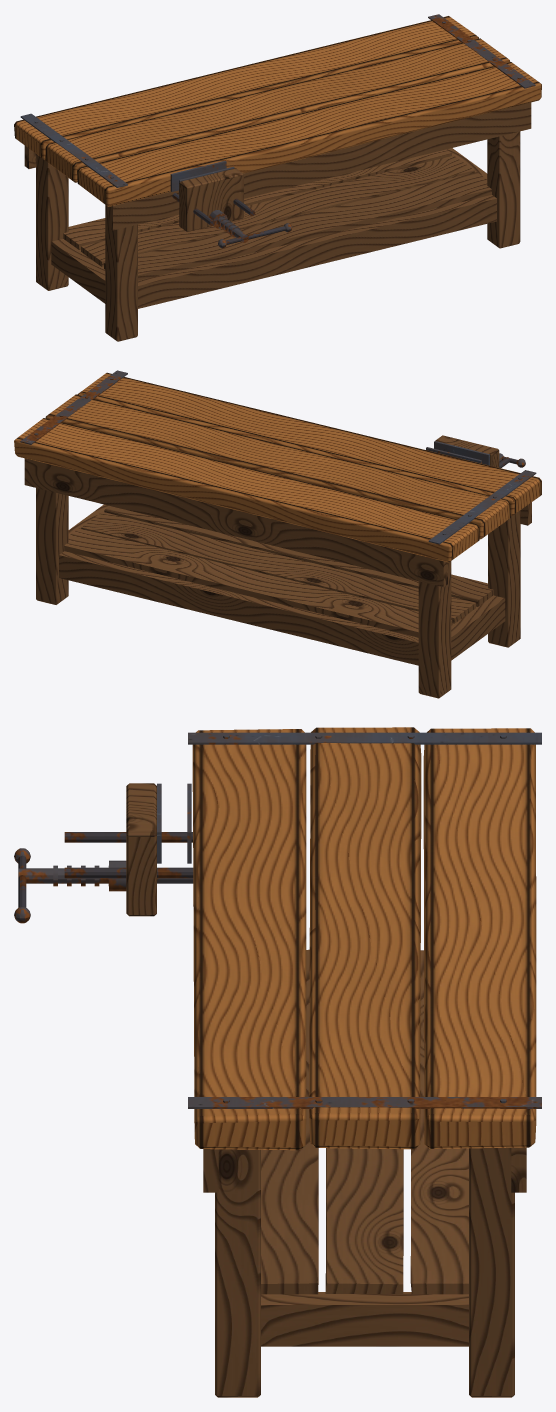
Rendered from Workbench.glb.
3 renders of one model, top to bottom at view 1: azimuth 30°, elevation 25°; view 2: azimuth 150°, elevation 25°; view 3: azimuth 270°, elevation 25°, orthographic. The views are drawn at different scales.
Parts seen in each view (by area): view 1: Workbench; view 2: Workbench; view 3: Workbench.
Boxes of the visible parts, x1,y1,x2,y2 form: Workbench: [14, 14, 541, 341]; Workbench: [14, 370, 541, 698]; Workbench: [14, 727, 541, 1397].
Bounding box in the file's own units: 2.41 × 0.861 × 1.37.
4 materials, 4 textured.
